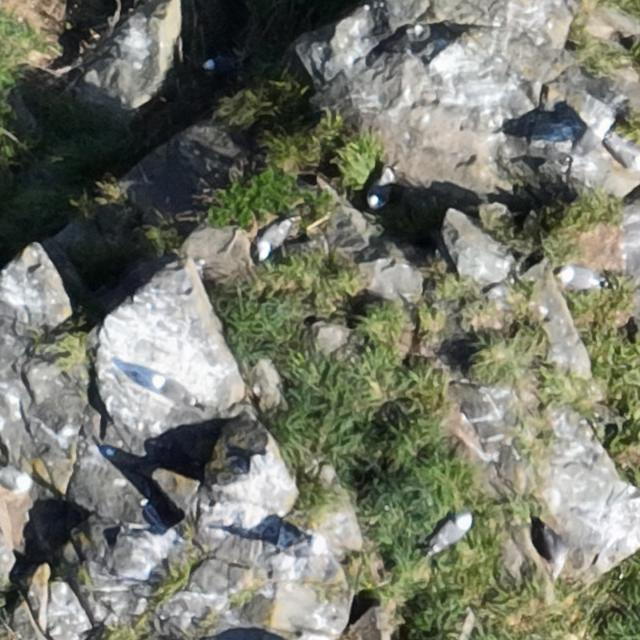umineko: (433, 514, 470, 546), (258, 220, 290, 256), (284, 532, 328, 558), (1, 464, 36, 494), (562, 268, 601, 288), (128, 370, 164, 388), (369, 178, 389, 208), (205, 54, 234, 72)
